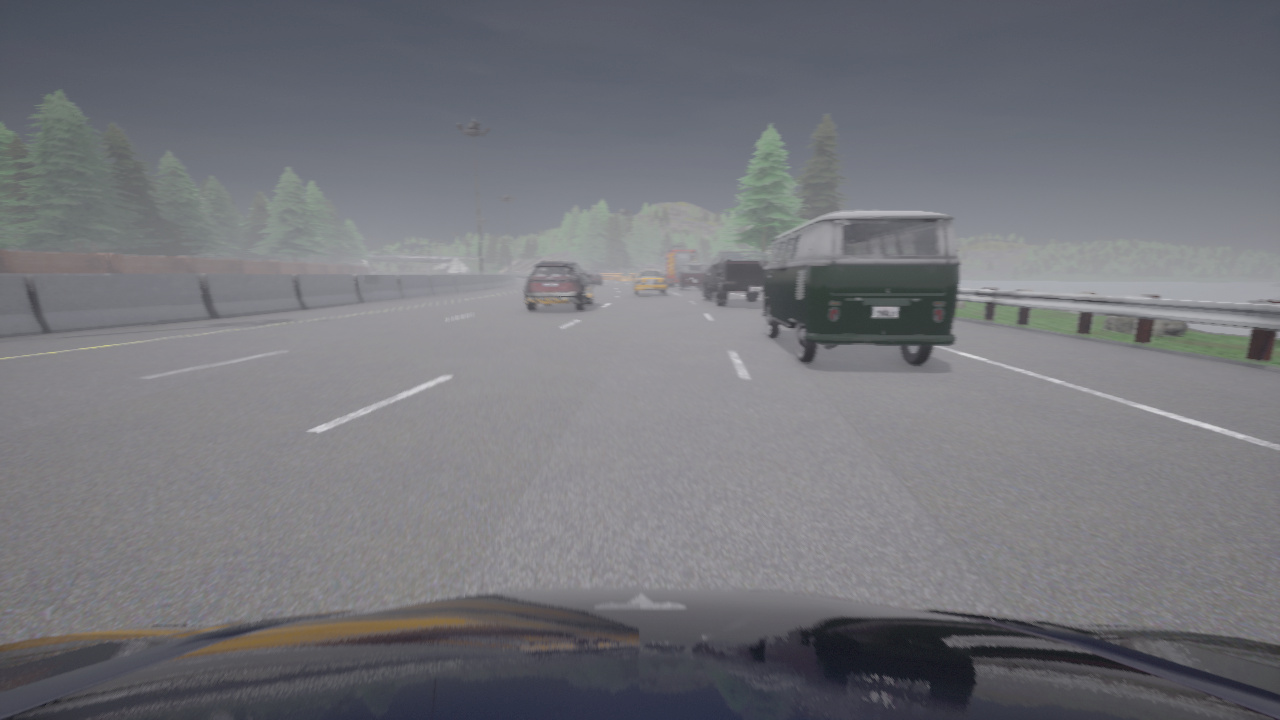cyclist: (0, 588, 1279, 719), (759, 210, 959, 364), (702, 252, 769, 306), (524, 261, 592, 310), (661, 244, 698, 286), (632, 267, 666, 295), (678, 263, 706, 290), (584, 271, 601, 285)
